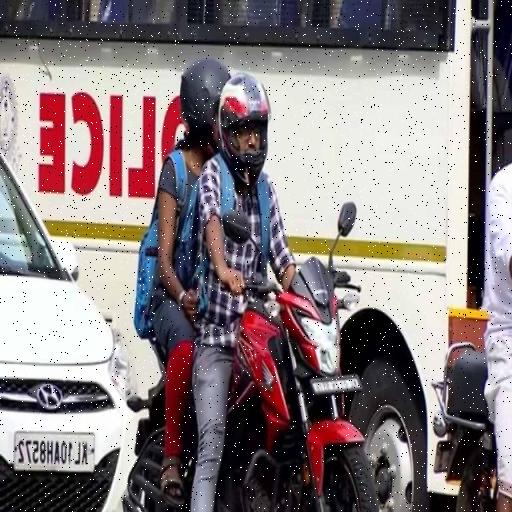Helmet: (176, 62, 275, 184)
Motor: (126, 252, 380, 512)
